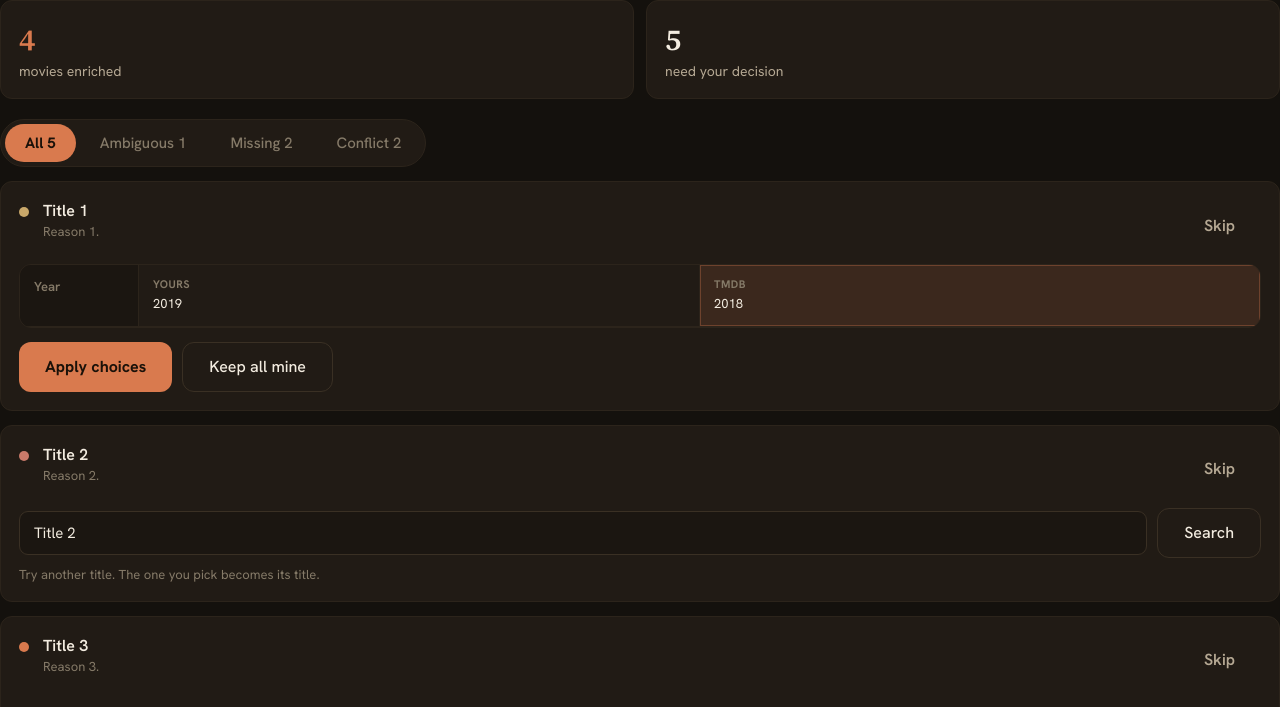
Test case: EnrichmentReview — Skip all beside a chosen kind › draws Skip all beside the filter once Missing 2 is chosen
Click the button "Missing 2" at (262, 143), box [210,124,313,162]
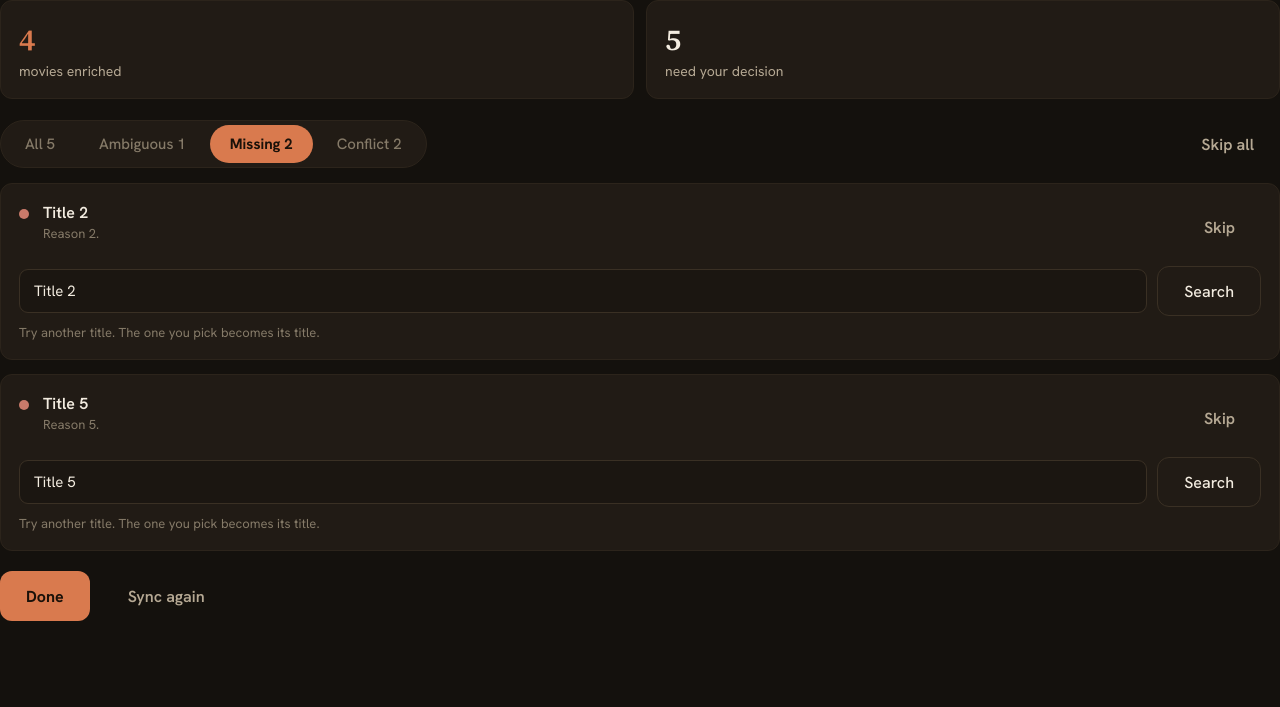
Now the button "Skip all" is shown, box [1175,119,1279,169]
Now the button "Keep all mine" is gone
